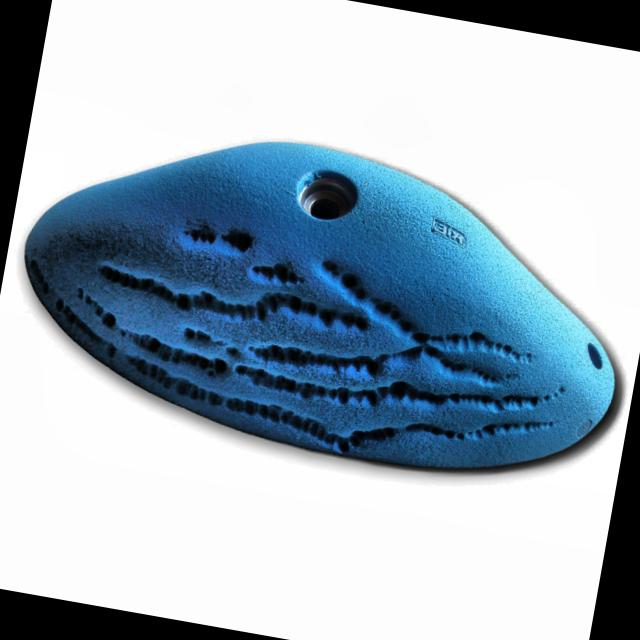Hold: (19, 136, 631, 479)
